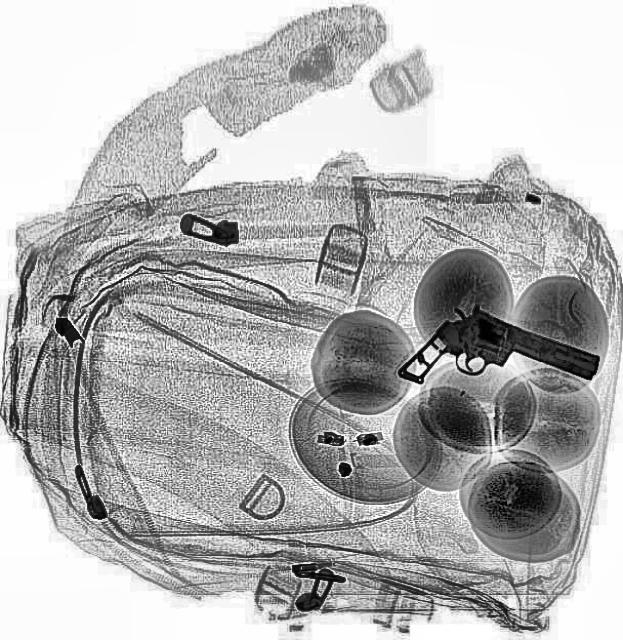Gun: (396, 287, 606, 441)
